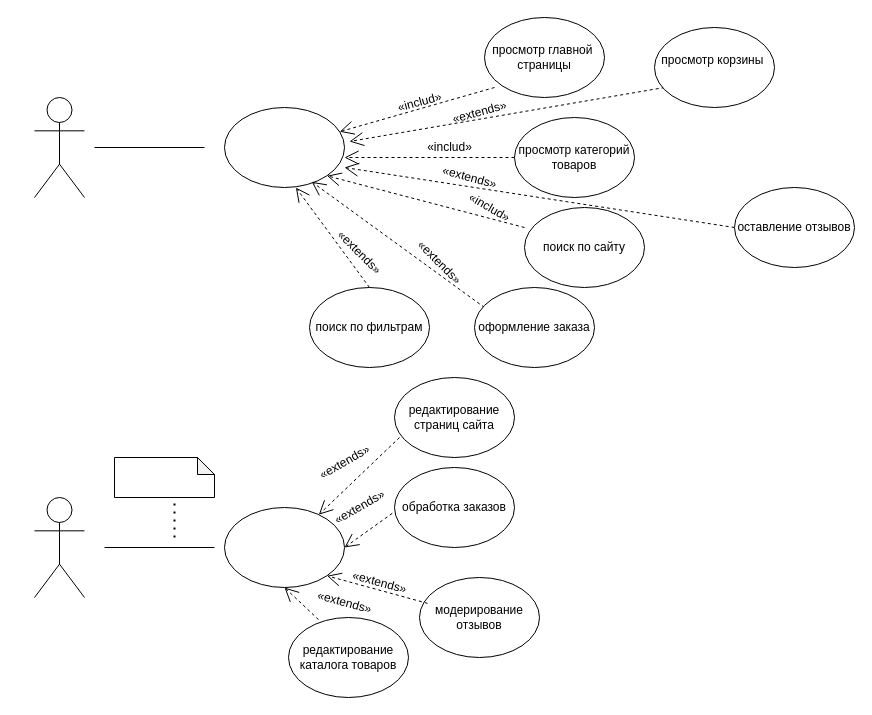
The diagram is 872 pixels wide and 715 high, and some of its shapes have lost their labels. The centre of each missing label's shape, as x and y in pixels:
"администратор" goes at (59,547).
"гость" goes at (59,147).
"доступно после авторизации" goes at (164,477).
"просмотр сайта" goes at (284,147).
"работа в админ панели" goes at (284,547).
